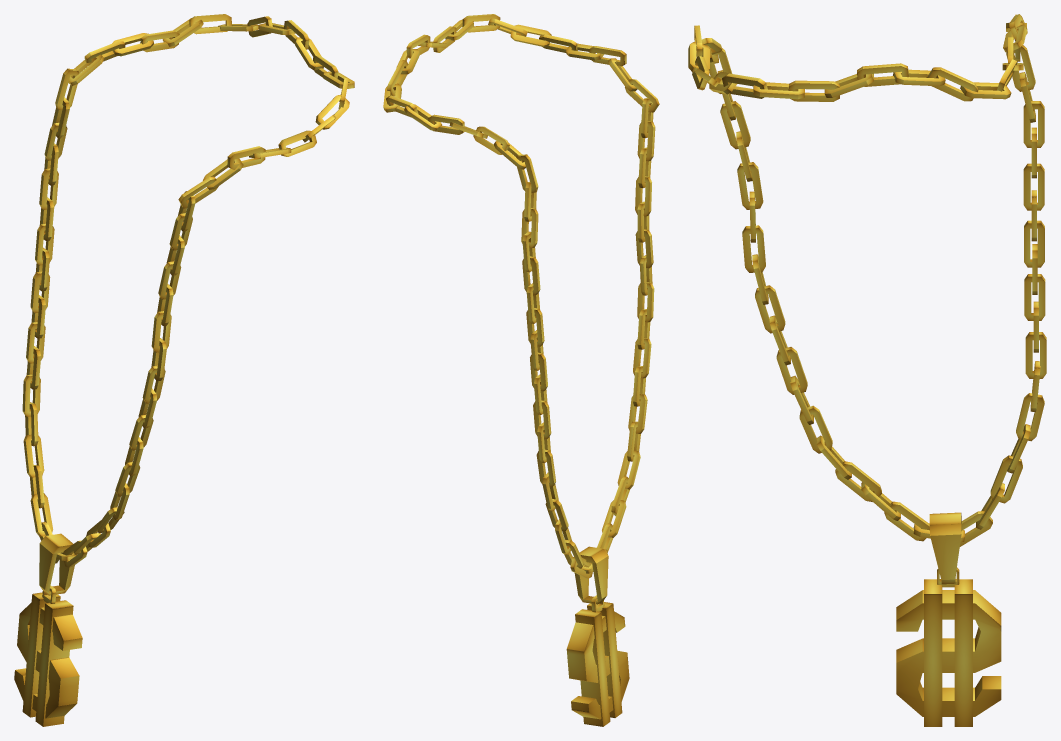
File: Thug Life.glb
3 views of the same model, side by side, from view 1: azimuth 30°, elevation 25°; view 2: azimuth 150°, elevation 25°; view 3: azimuth 270°, elevation 25° (orthographic). The views are drawn at different scales.
Visible parts, largest first — view 1: cuboid_58, cuboid_59, cuboid_60, cuboid_63, cuboid_9; view 2: cuboid_58, cuboid_60, cuboid_59, cuboid_63, cuboid_31, cuboid_16, cuboid_45, cuboid_25, cuboid_15, cuboid_23, cuboid_39, cuboid_18; view 3: cuboid_58, cuboid_60, cuboid_59, cuboid_63, cuboid_54, cuboid_56, cuboid_35, cuboid_42, cuboid_26, cuboid_8, cuboid_7, cuboid_21 (+15 smaller).
Part boxes in pixels (<box>): cuboid_58: <box>14,602,82,718</box>; cuboid_59: <box>35,600,73,726</box>; cuboid_60: <box>22,592,60,717</box>; cuboid_63: <box>39,533,74,595</box>; cuboid_9: <box>23,434,44,477</box>; cuboid_58: <box>566,611,629,719</box>; cuboid_60: <box>575,609,610,726</box>; cuboid_59: <box>587,602,622,717</box>; cuboid_63: <box>574,546,608,604</box>; cuboid_31: <box>510,24,551,46</box>; cuboid_16: <box>633,338,651,378</box>; cuboid_45: <box>516,154,538,192</box>; cuboid_25: <box>617,450,640,489</box>; cuboid_15: <box>635,176,651,216</box>; cuboid_23: <box>628,394,647,433</box>; cuboid_39: <box>625,79,659,112</box>; cuboid_18: <box>637,282,654,322</box>; cuboid_58: <box>896,590,1001,716</box>; cuboid_60: <box>954,579,972,726</box>; cuboid_59: <box>924,579,942,726</box>; cuboid_63: <box>929,512,961,584</box>; cuboid_54: <box>927,67,978,101</box>; cuboid_56: <box>857,63,908,86</box>; cuboid_35: <box>788,80,839,101</box>; cuboid_42: <box>720,101,750,149</box>; cuboid_26: <box>835,461,881,501</box>; cuboid_8: <box>990,455,1022,503</box>; cuboid_7: <box>1024,274,1045,320</box>; cuboid_21: <box>737,162,763,209</box>.
Bounding box in the file's own units: 3.22 × 8.29 × 3.41.
Materials: 1 (1 with a texture image).
